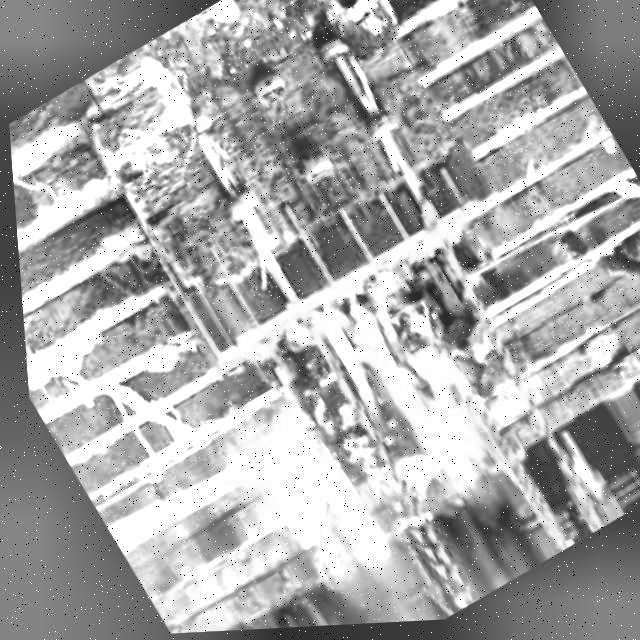Fire: (296, 261, 513, 526)
